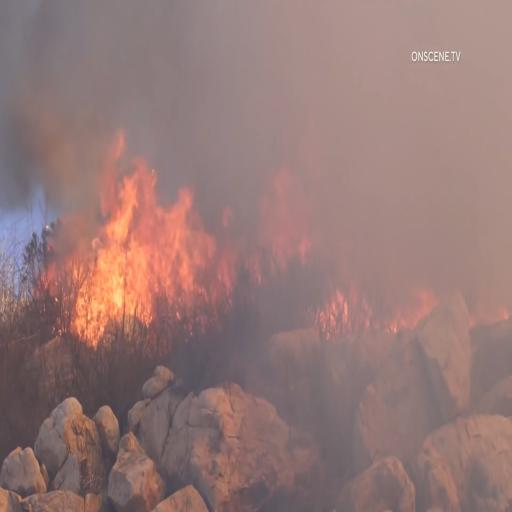fire: (108, 206, 226, 328), (111, 134, 154, 335), (55, 231, 109, 337)
smoke: (1, 2, 107, 202)
